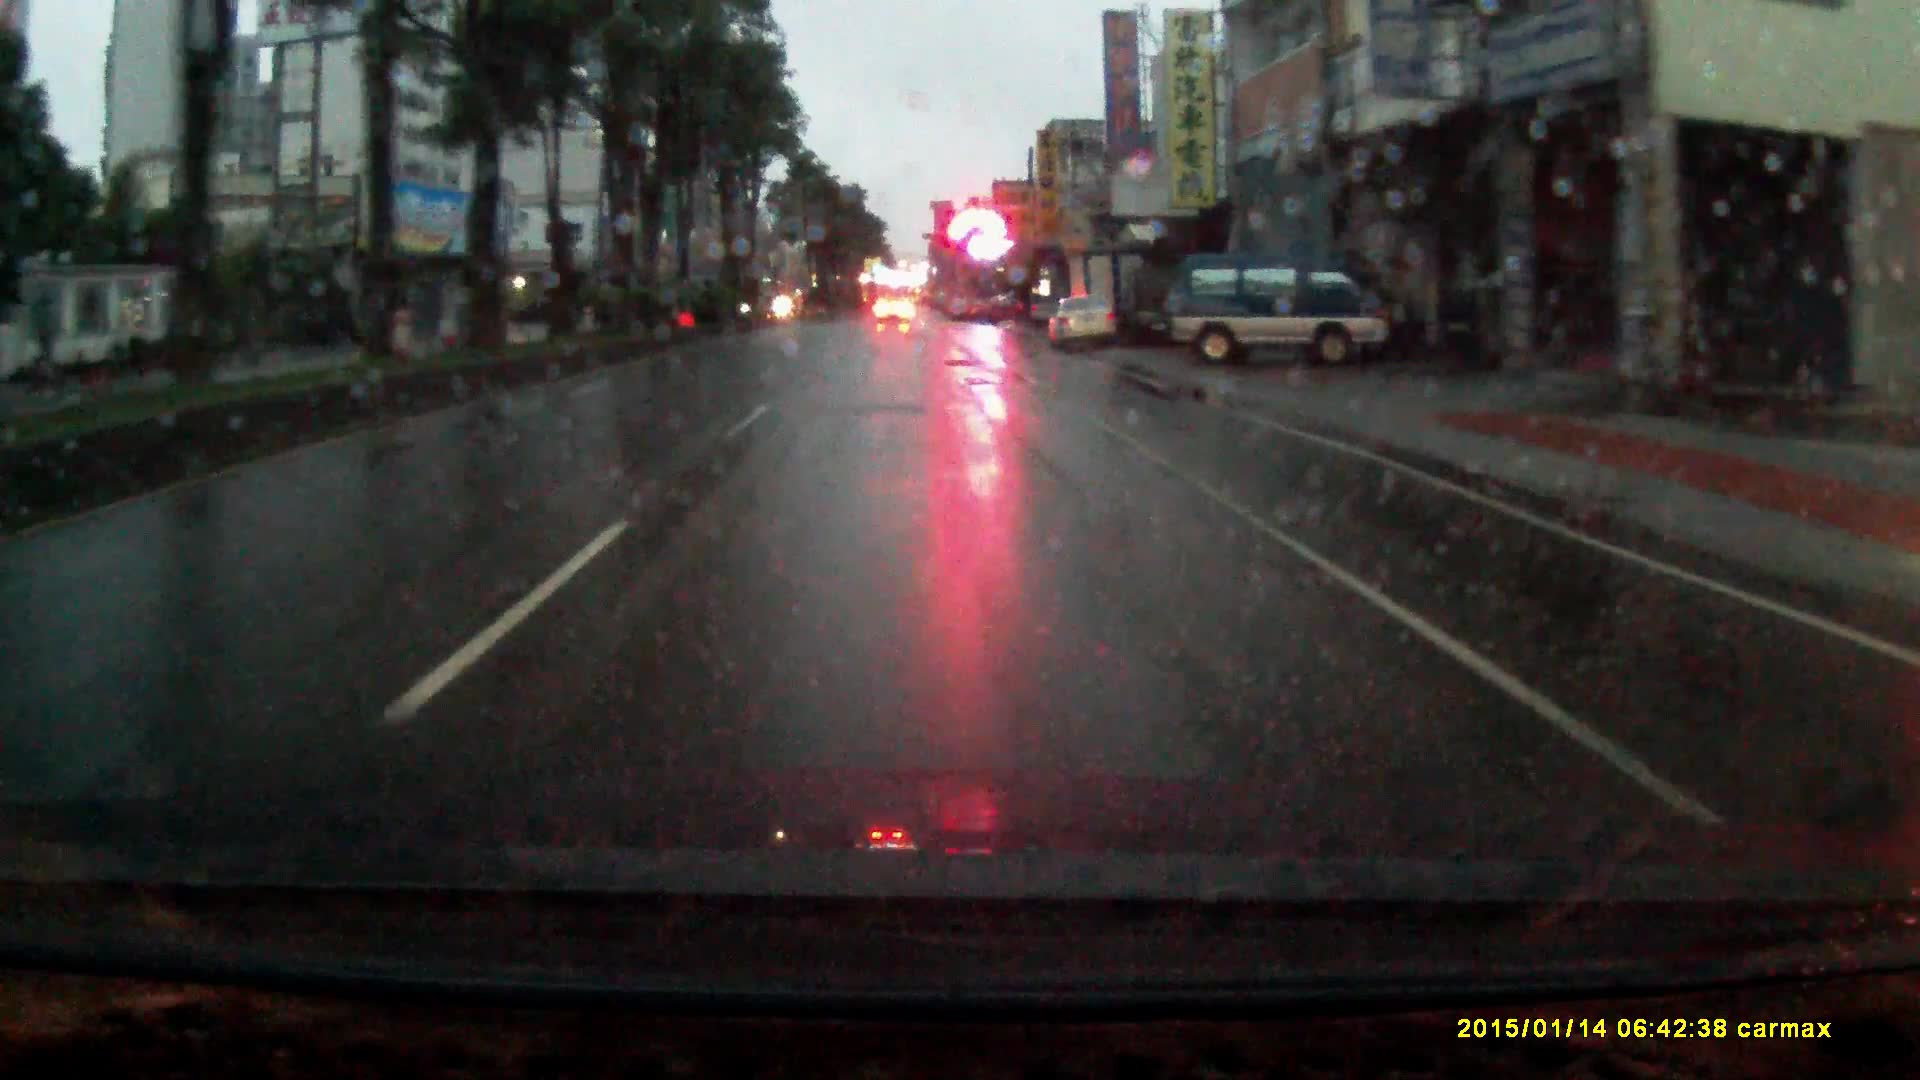vehicle: (1168, 249, 1410, 373), (1067, 247, 1150, 347), (1047, 295, 1118, 352), (876, 299, 913, 328)
